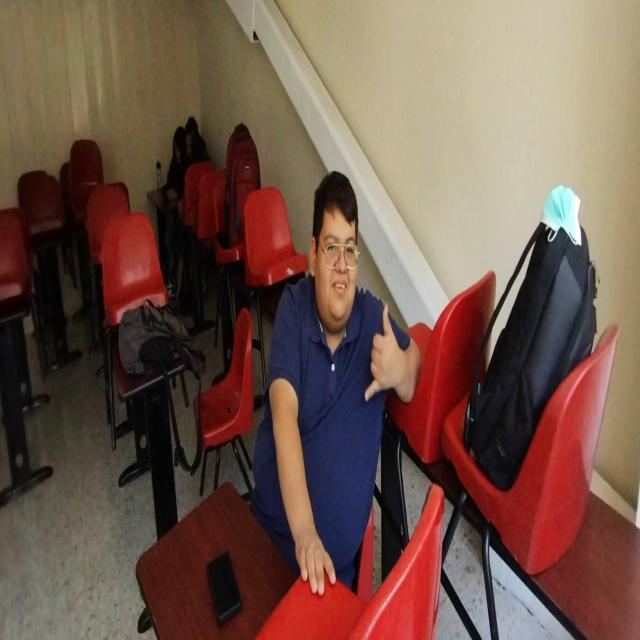adult: (252, 168, 419, 596)
